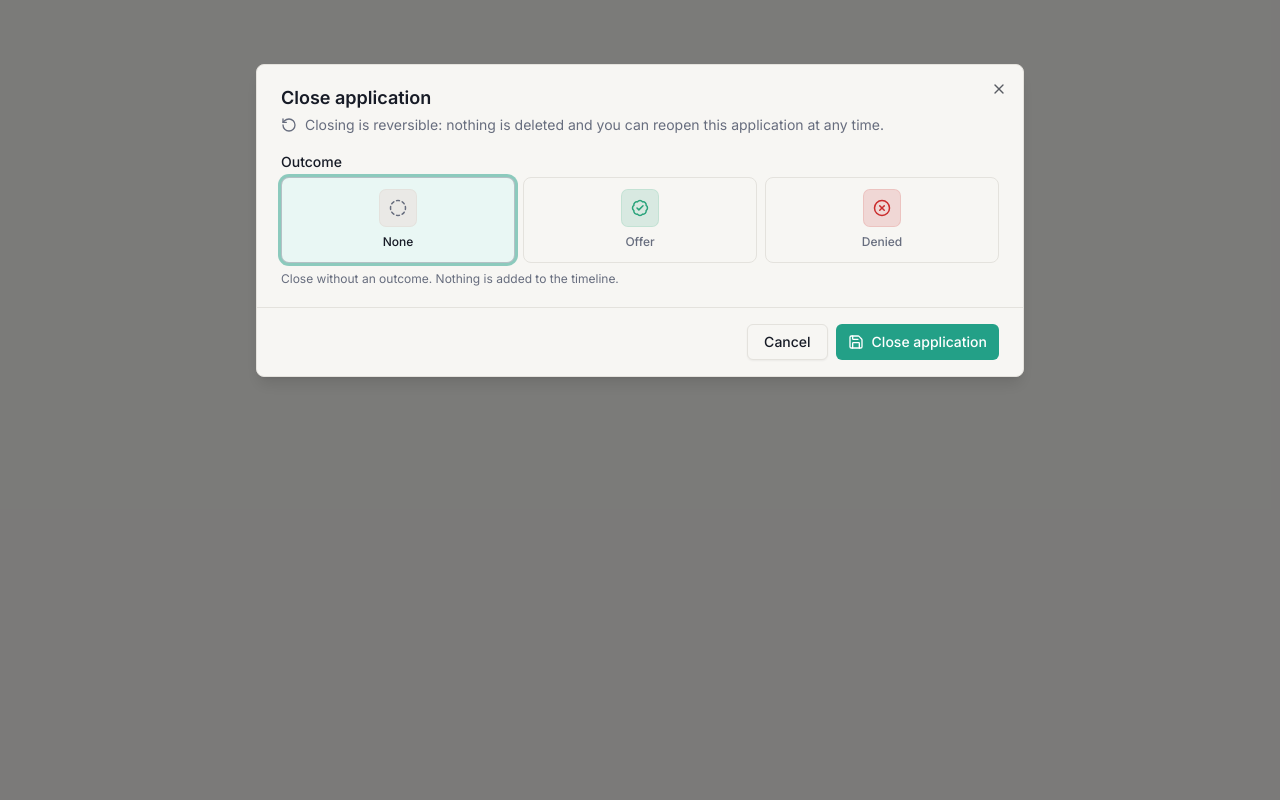
Test: TimelineEventForm close mode — outcome date › Offer caps the date at today too
Click the radio button labelled "Offer": {"x": 640, "y": 220} [523, 177, 757, 263]
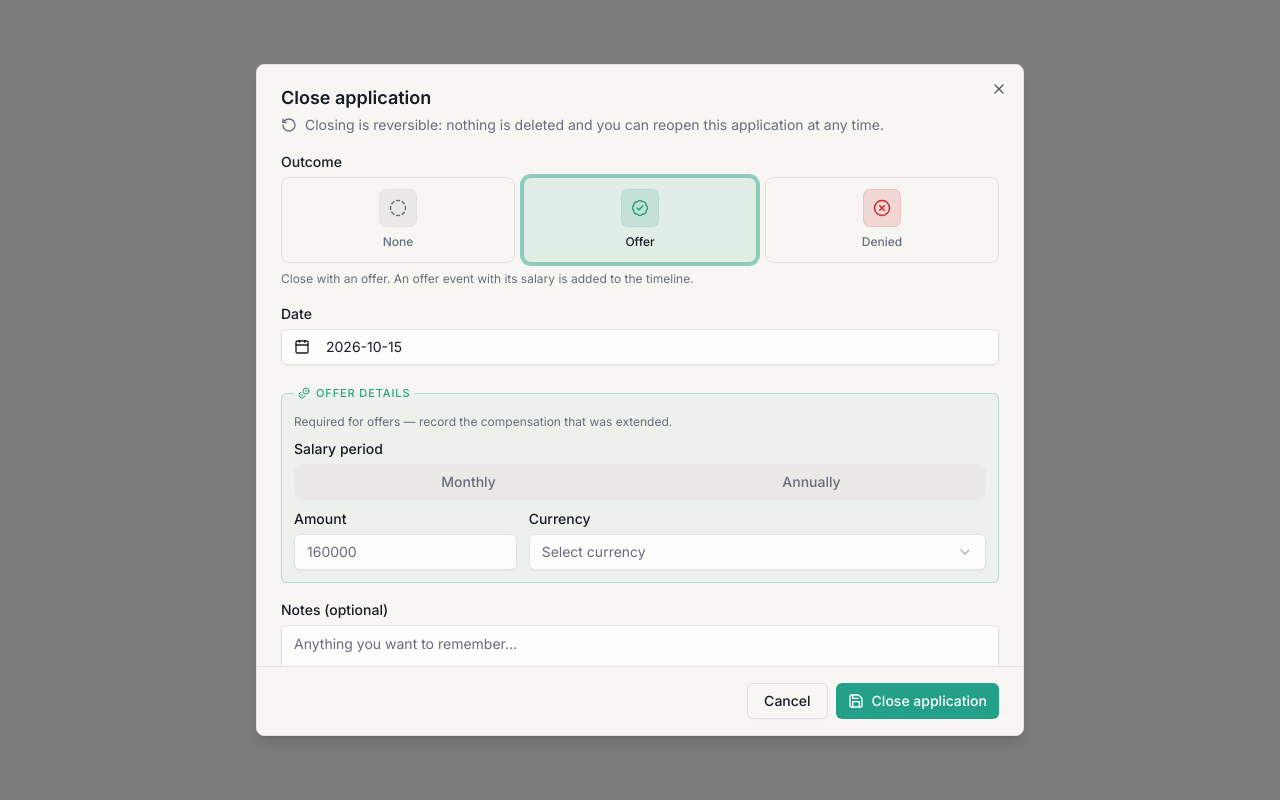
Click the button named "Date": {"x": 364, "y": 346} [281, 329, 999, 365]
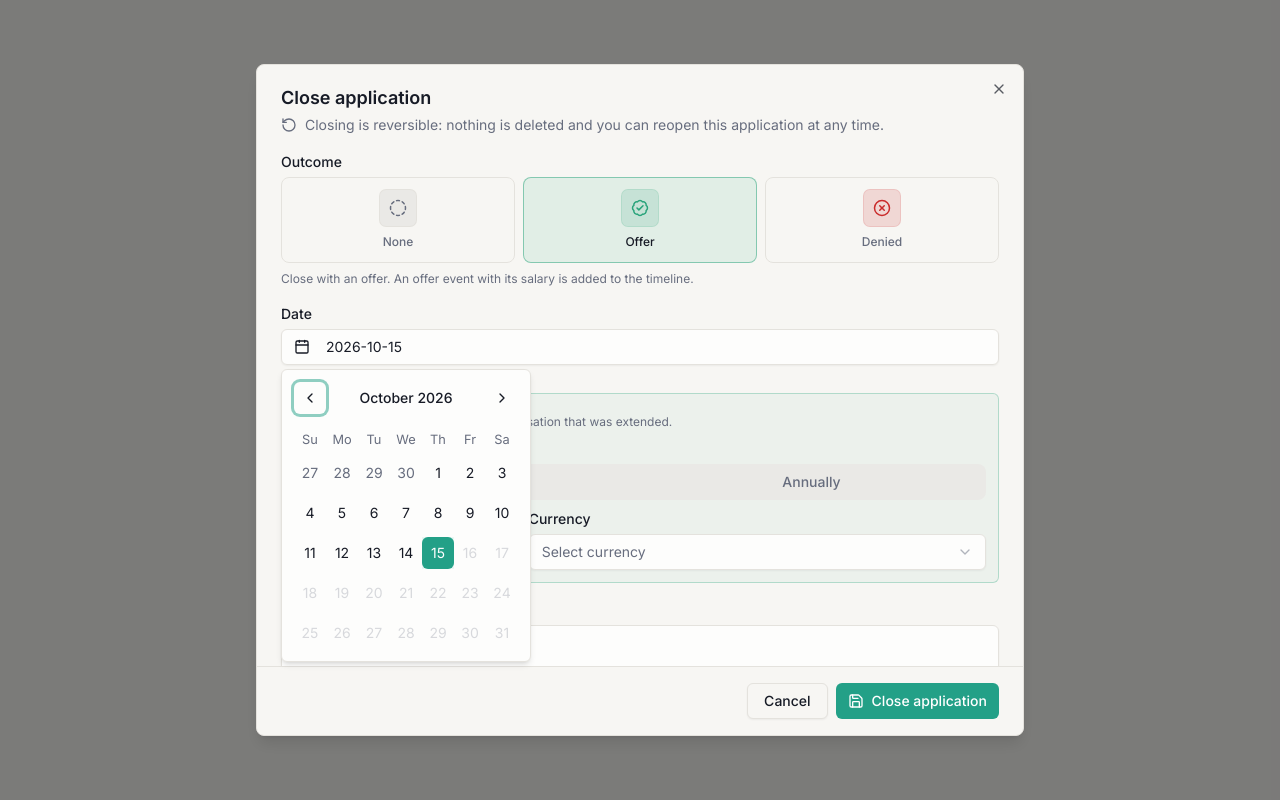
Check: the button "16" is disabled, box [454, 537, 486, 569]
